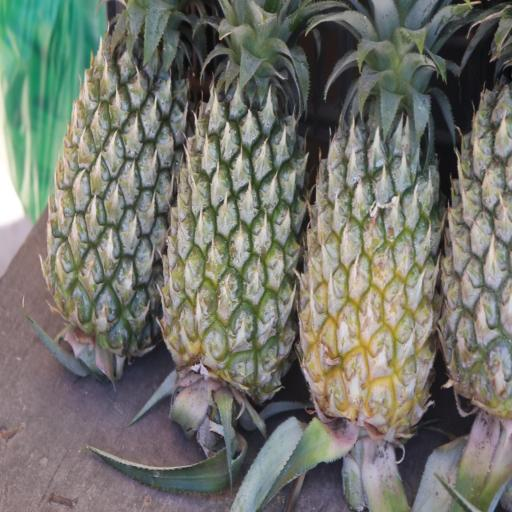------------------------------: (294, 0, 450, 451)
